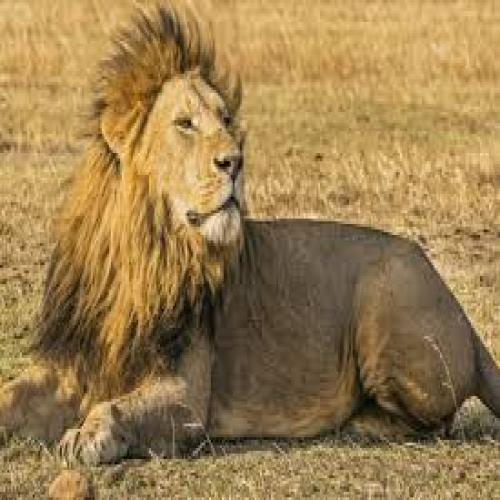lion-endangered: (0, 12, 499, 468)
